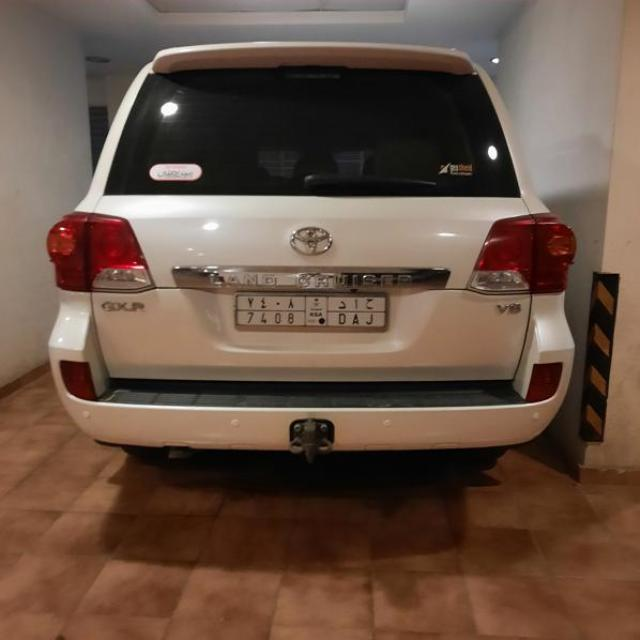license_plate: (234, 295, 391, 333)
